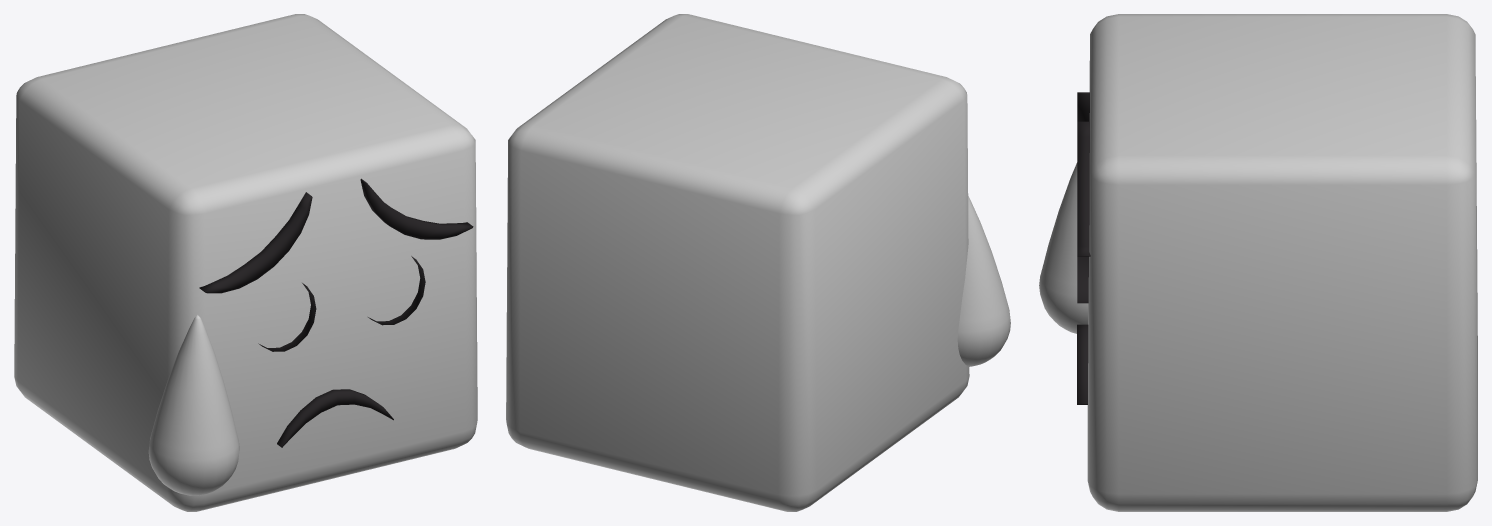
Rendered from Stressed.fbx.
3 renders of one model, left to right at view 1: azimuth 30°, elevation 25°; view 2: azimuth 150°, elevation 25°; view 3: azimuth 270°, elevation 25°, orthographic. The views are drawn at different scales.
Parts seen in each view (by area): view 1: Stressed, Stressed face; view 2: Stressed; view 3: Stressed, Stressed face.
Part boxes in pixels (bbox=[...]): Stressed: bbox=[14, 14, 477, 511]; Stressed face: bbox=[199, 178, 473, 447]; Stressed: bbox=[506, 14, 1010, 511]; Stressed: bbox=[1039, 14, 1477, 511]; Stressed face: bbox=[1077, 92, 1090, 404].
Size of the model in its own units: 488 by 451 by 507.
